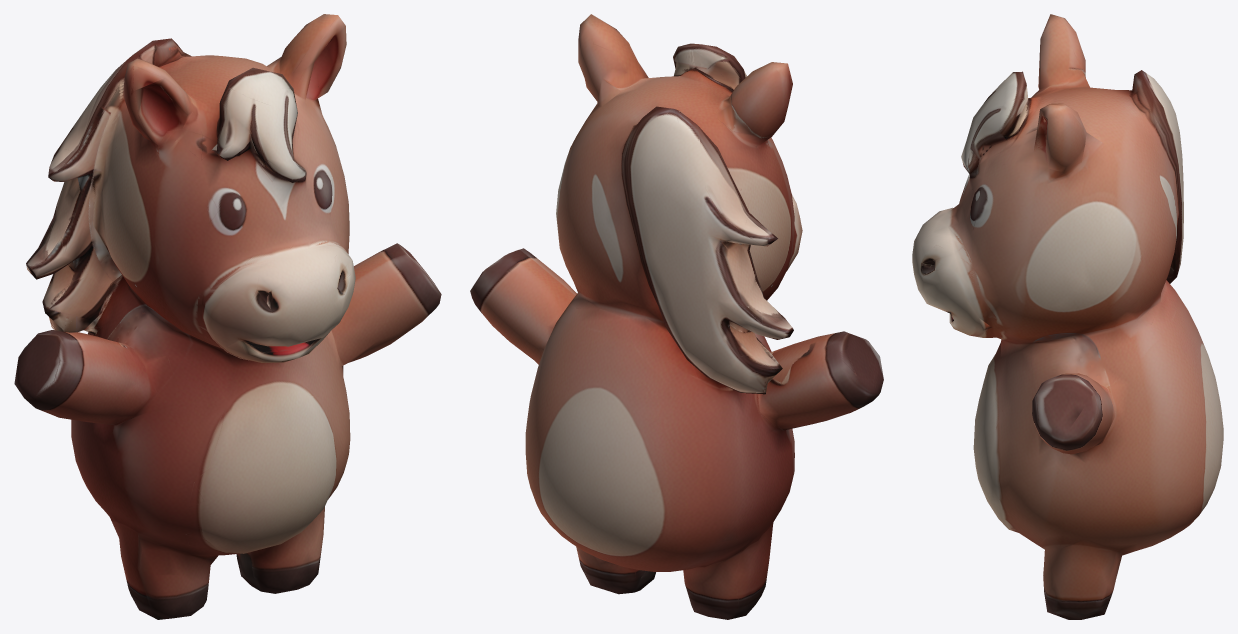
File: horse.glb
The picture shows the model from 3 angles, left to right: view 1: azimuth 30°, elevation 25°; view 2: azimuth 150°, elevation 25°; view 3: azimuth 270°, elevation 25°; orthographic projection. The views are drawn at different scales.
Parts seen in each view (by area): view 1: material_0; view 2: material_0; view 3: material_0.
Part boxes in pixels (bbox=[...]): material_0: bbox=[14, 14, 441, 619]; material_0: bbox=[470, 14, 883, 619]; material_0: bbox=[912, 14, 1223, 619].
Bounding box in the file's own units: 0.7585 × 0.9952 × 0.5335.
Materials: 1 (1 with a texture image).
